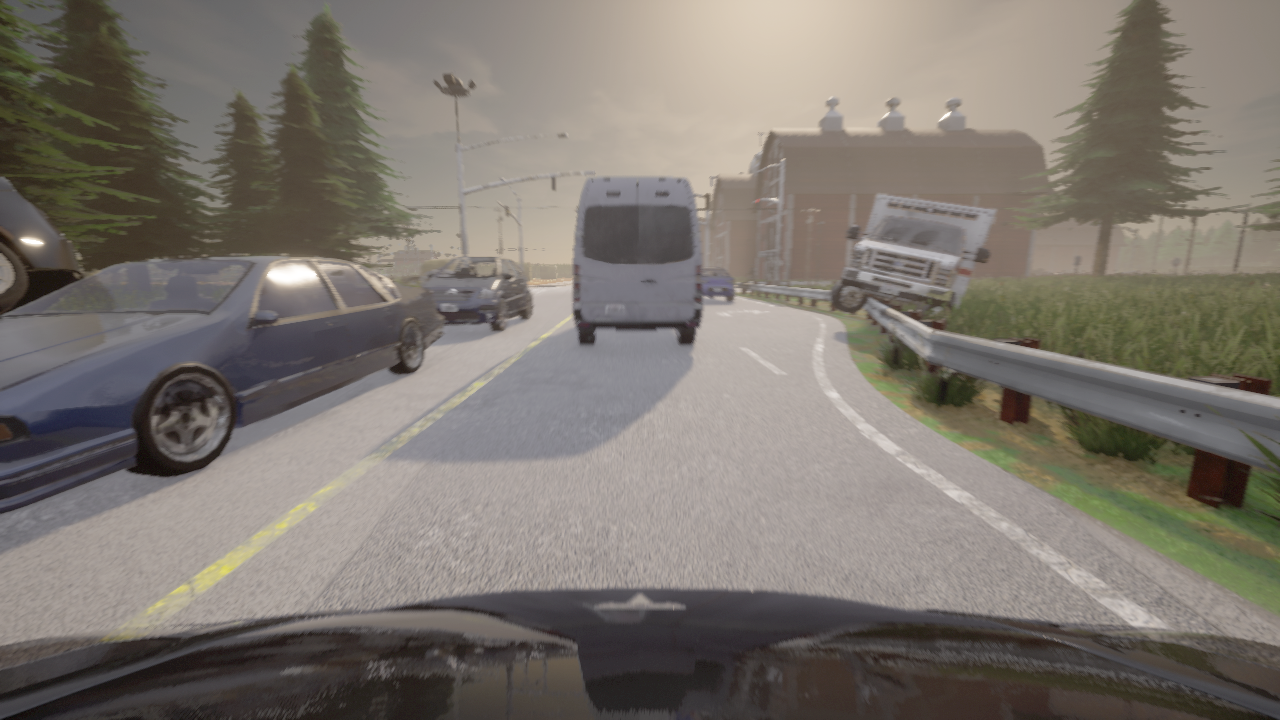cyclist: (0, 588, 1279, 719), (0, 255, 444, 515), (572, 177, 702, 344), (830, 194, 996, 320), (419, 256, 532, 332), (702, 267, 734, 301), (401, 268, 440, 285), (1030, 269, 1056, 277), (1056, 270, 1082, 275), (1122, 271, 1143, 275), (1201, 272, 1221, 275), (385, 277, 394, 281)
pedestrian: (747, 265, 755, 281)
